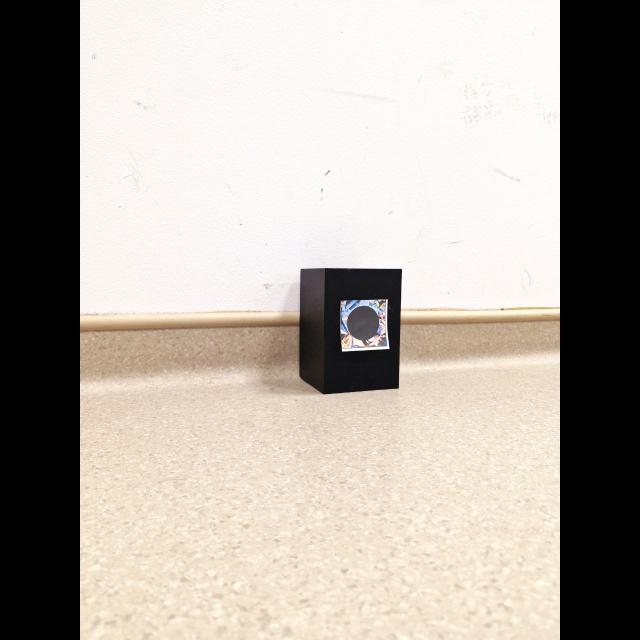CIRCLE: (347, 306, 379, 340)
